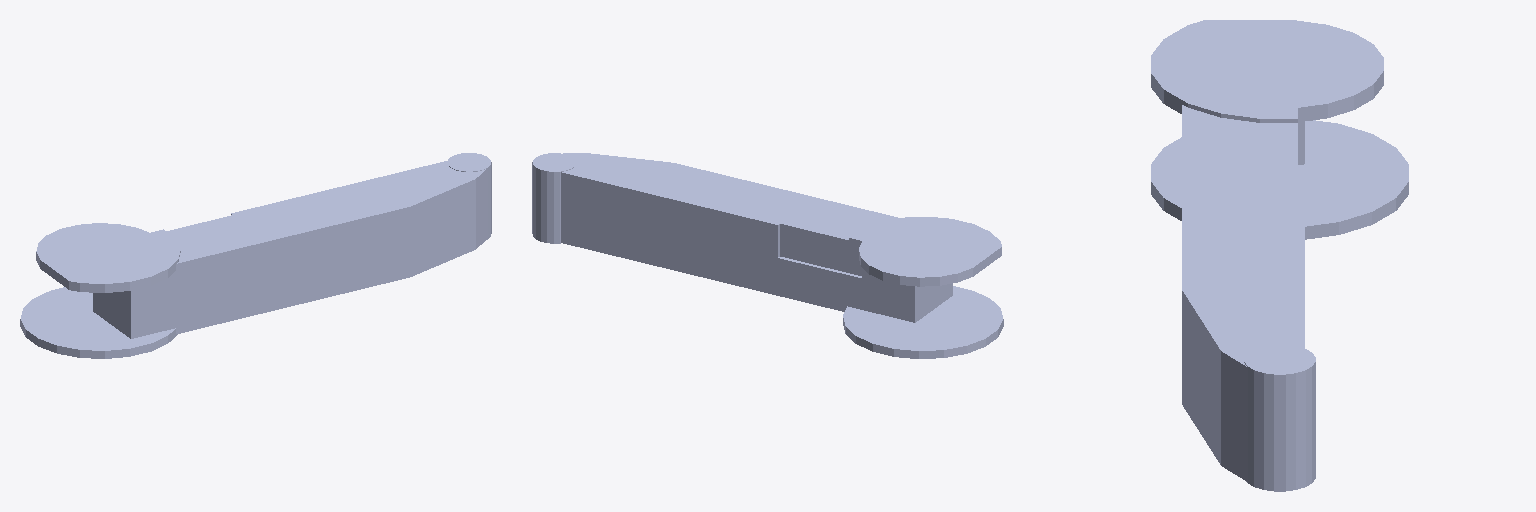
robot.urdf — link2:
<robot
  name="link2">
  <link
    name="link2_fixed_coordinate">
    <inertial>
      <origin
        xyz="0.26821 -0.026226 -0.00043323"
        rpy="0 0 0" />
      <mass
        value="7.6192" />
      <inertia
        ixx="0.0182518895695961"
        ixy="0.000288617141409028"
        ixz="-0.000801408670696314"
        iyy="0.282929525631837"
        iyz="0.000419364871130956"
        izz="0.283301435599079" />
    </inertial>
    <visual>
      <origin
        xyz="0 0 0"
        rpy="0 0 0" />
      <geometry>
        <mesh
          filename="package://link2_fixed_coordinate/meshes/link2_fixed_coordinate.STL" />
      </geometry>
      <material
        name="">
        <color
          rgba="0.79216 0.81961 0.93333 1" />
      </material>
    </visual>
    <collision>
      <origin
        xyz="0 0 0"
        rpy="0 0 0" />
      <geometry>
        <mesh
          filename="package://link2_fixed_coordinate/meshes/link2_fixed_coordinate.STL" />
      </geometry>
    </collision>
  </link>
</robot>

--- What the picture shows (computed from the rendered views, not written in the file) ---
The picture shows the robot from 3 angles, left to right: view 1: azimuth 30°, elevation 25°; view 2: azimuth 150°, elevation 25°; view 3: azimuth 270°, elevation 25°; orthographic projection.
Robot: link2 — 1 links, 0 joints (none); root link link2_fixed_coordinate; default pose: all joints at 0.
Visible links, largest first — view 1: link2_fixed_coordinate; view 2: link2_fixed_coordinate; view 3: link2_fixed_coordinate.
Link boxes in pixels (x1,y1,x2,y2): link2_fixed_coordinate: (20, 153, 491, 358); link2_fixed_coordinate: (532, 153, 1003, 358); link2_fixed_coordinate: (1151, 20, 1408, 491).
Size in the robot's own frame: 0.743 by 0.224 by 0.1165 metres.
1 mesh visuals loaded from 1 distinct referenced files (1 binary STL).